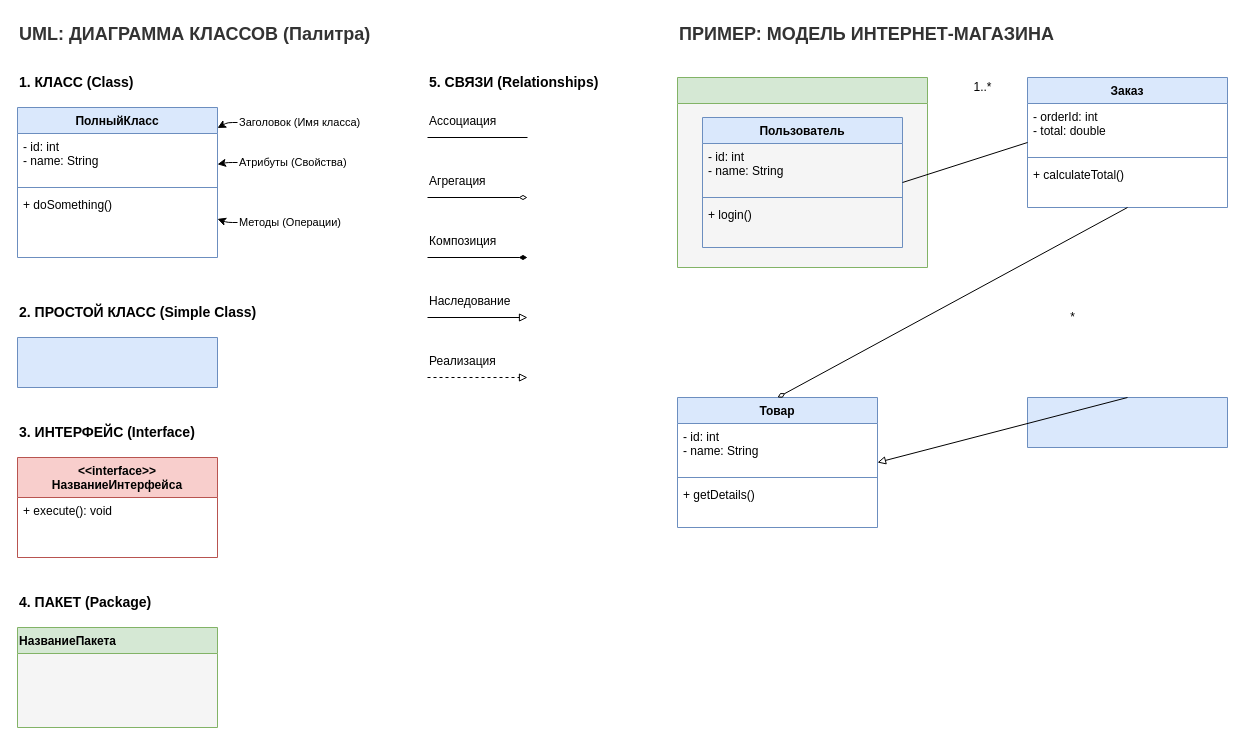
The diagram is 1245 pixels wide and 745 high, and some of its shapes have lost their labels. The shapes that lost their labels are listed below. From the top down, each one's box as (x1, y1, x2, y2) in pixels, then its label:
(676, 76, 928, 268): Пакет: Пользователи
(16, 336, 218, 388): ПростойКласс
(1026, 396, 1228, 448): Электроника
